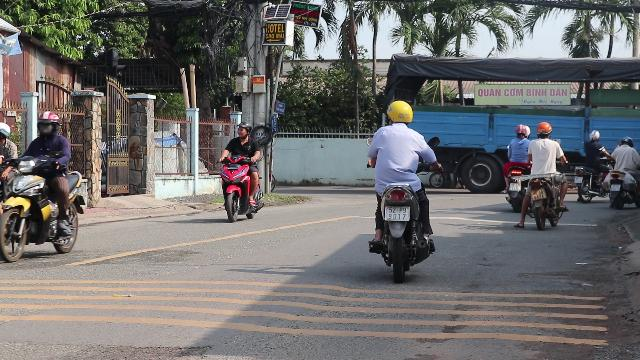helmet: (386, 99, 414, 125), (36, 110, 60, 136), (534, 121, 552, 138), (236, 123, 250, 139)
licenseplate: (385, 206, 409, 220), (529, 189, 545, 199)
motorcyclist: (362, 98, 440, 276), (0, 110, 86, 260), (520, 120, 568, 228), (216, 122, 266, 222)
